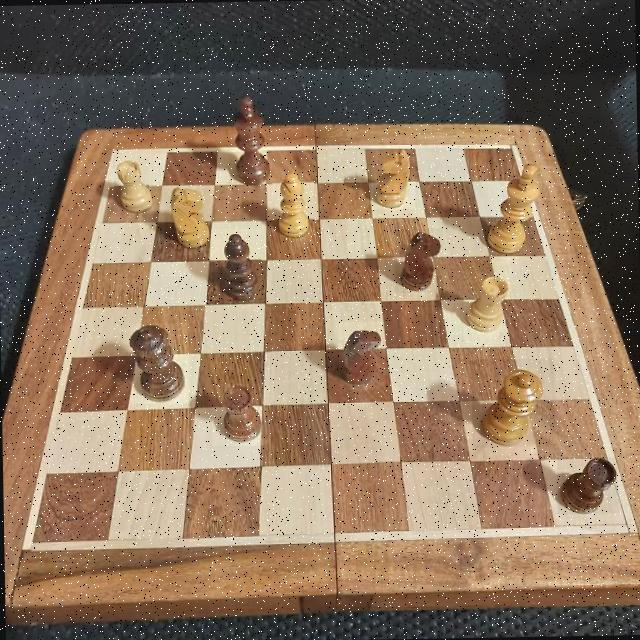black-camel: (208, 228, 262, 300)
black-elephant: (556, 458, 618, 514), (211, 383, 266, 446)
black-horse: (394, 228, 444, 292), (338, 322, 385, 389)
black-king: (230, 90, 272, 184)
black-queen: (129, 322, 188, 403)
white-camel: (271, 170, 314, 240)
white-elephant: (463, 272, 511, 332), (113, 154, 149, 218)
white-horse: (163, 188, 212, 251), (370, 144, 415, 210)
white-king: (481, 160, 546, 253)
white-queen: (470, 358, 556, 448)
